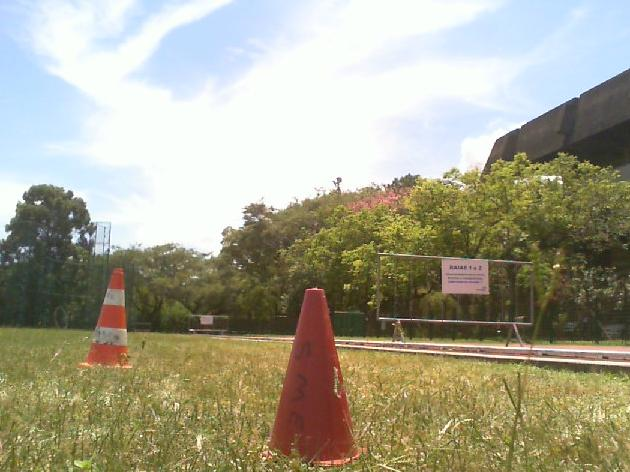0 cone: (254, 289, 367, 467), (79, 269, 131, 368)
